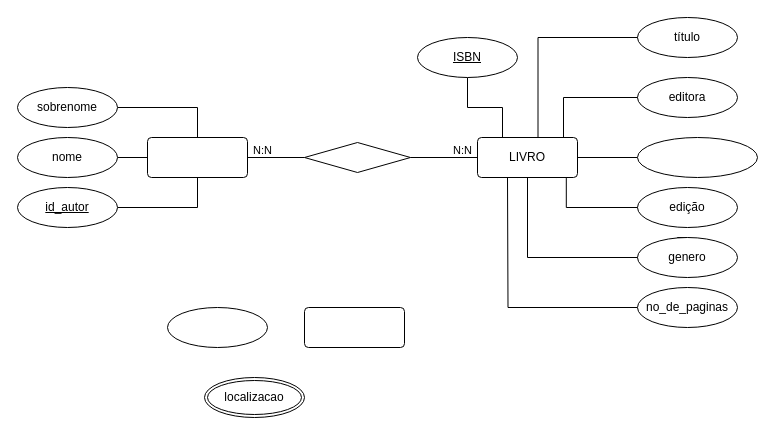
Some shapes in this 775 by 435 pixel diagram are drawn without their labels. Here are the shapes that lost their labels. From the top down, the box of each, then its label:
(146, 136, 248, 178): AUTOR
(304, 142, 410, 172): possui
(636, 136, 758, 178): ano_de_publicacao
(166, 306, 268, 348): id_catalogacao
(304, 306, 404, 348): CATALOGACAO
